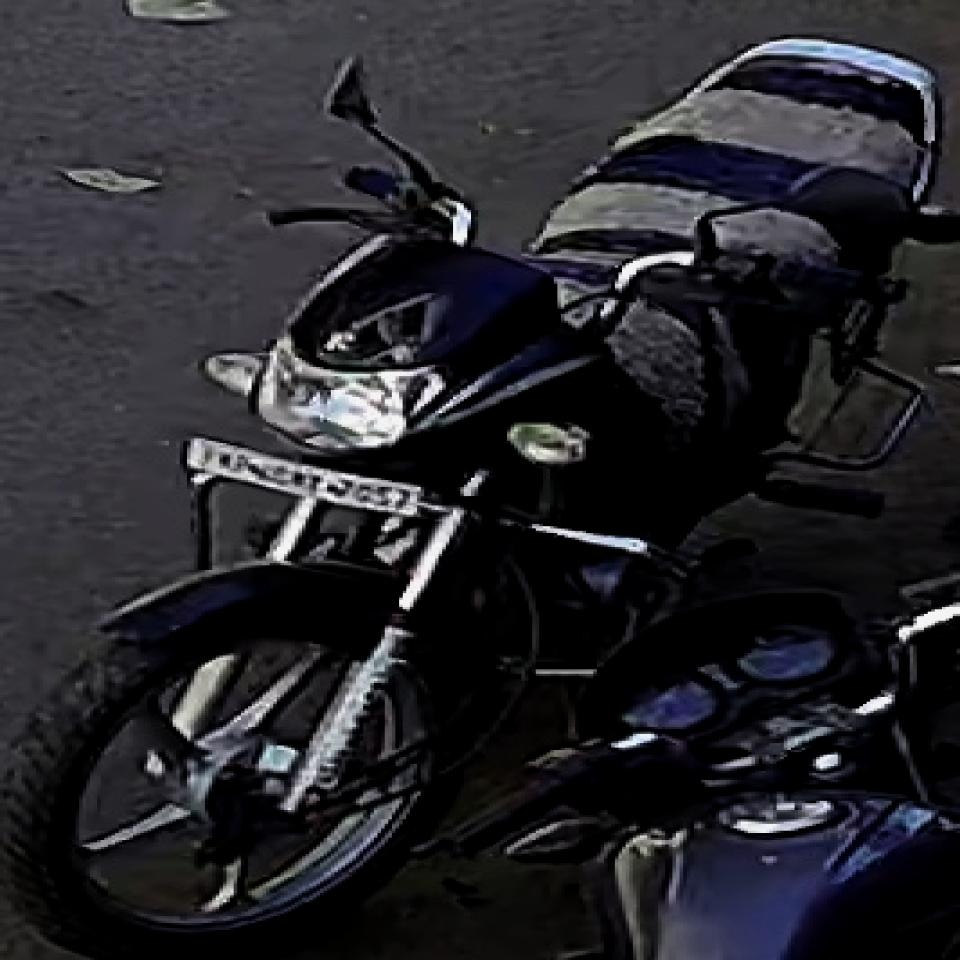head_light: (254, 328, 441, 451)
